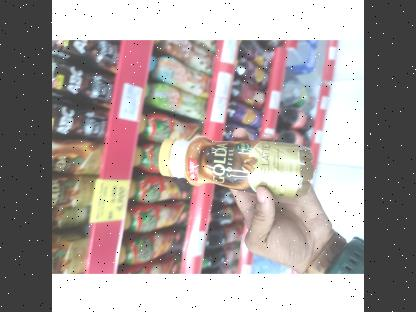Plastic Bottle: (151, 121, 331, 207)
